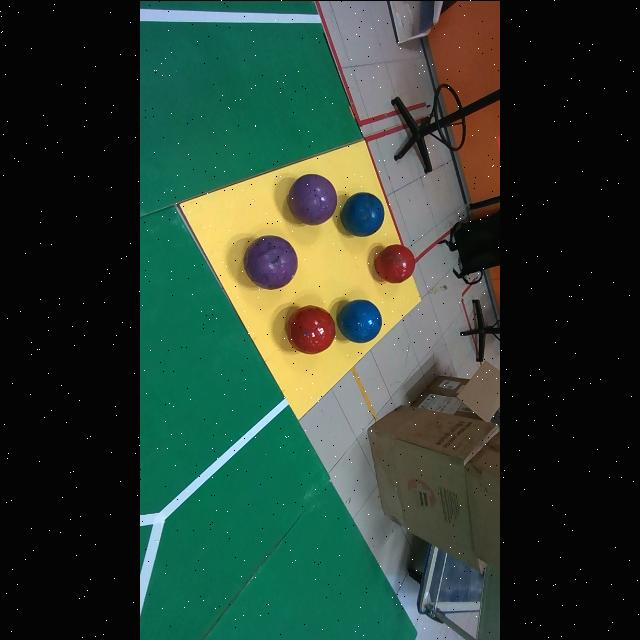B: (338, 299, 381, 342), (341, 192, 384, 235)
P: (244, 235, 298, 289), (289, 173, 337, 225)
R: (286, 304, 336, 354), (375, 243, 415, 282)
